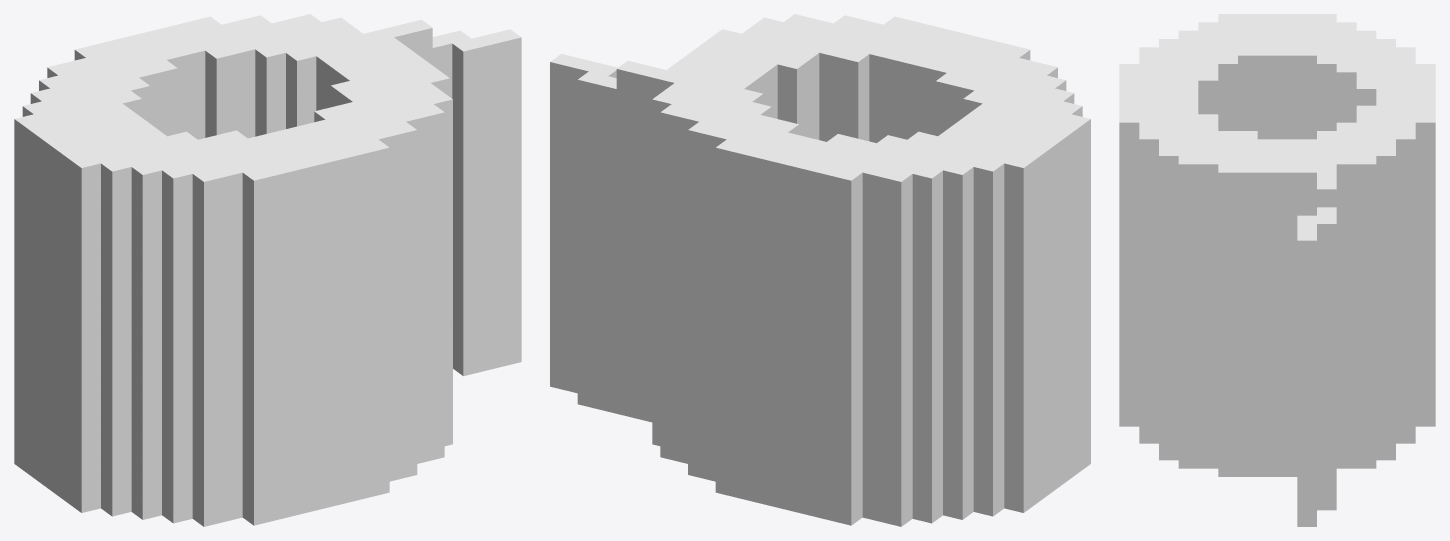
The model's file is cartaigenica.gltf.
3 renders of one model, left to right at view 1: azimuth 30°, elevation 25°; view 2: azimuth 150°, elevation 25°; view 3: azimuth 270°, elevation 25°, orthographic. The views are drawn at different scales.
Parts seen in each view (by area): view 1: Layer.1; view 2: Layer.1; view 3: Layer.1.
Boxes of the visible parts, bbox=[...] form: Layer.1: bbox=[14, 14, 521, 526]; Layer.1: bbox=[550, 14, 1090, 526]; Layer.1: bbox=[1119, 14, 1435, 526].
Bounding box in the file's own units: 25 × 17 × 16.
Materials: 1 (1 with a texture image).
